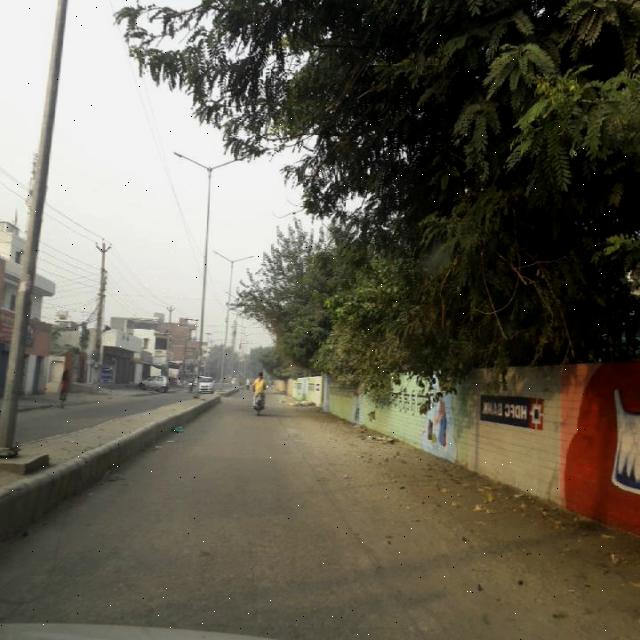D01: (309, 467, 425, 633)
